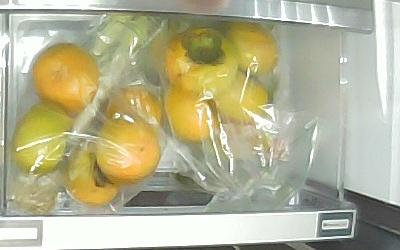persimmon_vinyl: (164, 26, 238, 100), (32, 43, 100, 116), (95, 116, 163, 184), (12, 102, 74, 173), (64, 145, 120, 206), (163, 84, 220, 140), (224, 22, 278, 79), (215, 68, 270, 122), (105, 87, 162, 131)
